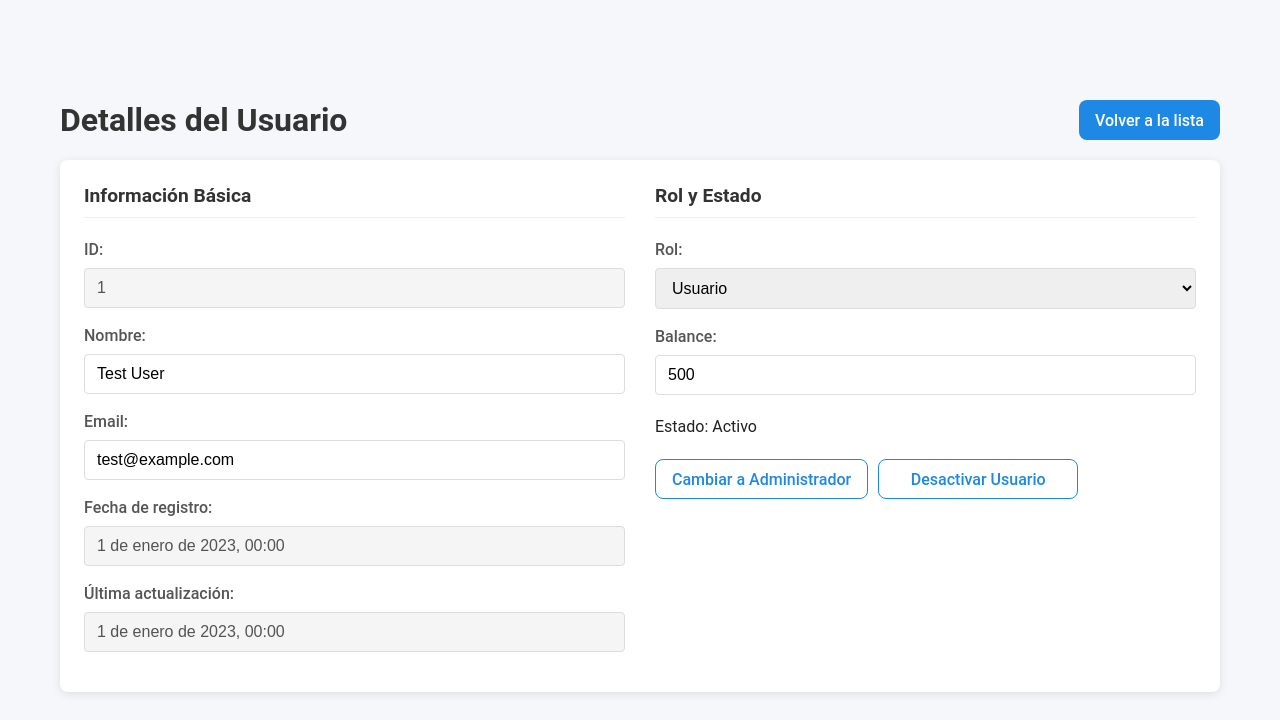
Test: UserDetail Component › changes user role when clicking on role button
The image size is (1280, 720).
Cambiar el rol
Click the button "Cambiar a Administrador" at [762, 479], box top-left (655, 459), bottom-right (868, 499)
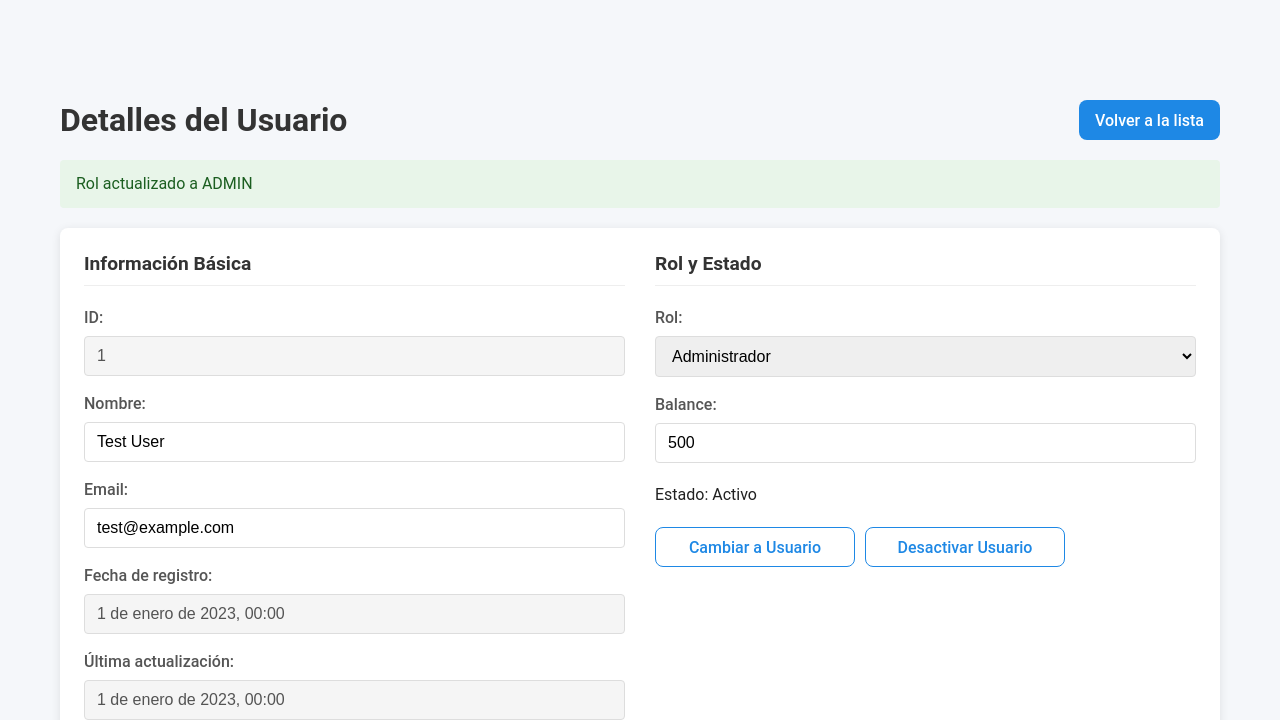
Expected: the text "Rol actualizado a ADMIN" is shown, top-left (60, 160), bottom-right (1220, 208)
